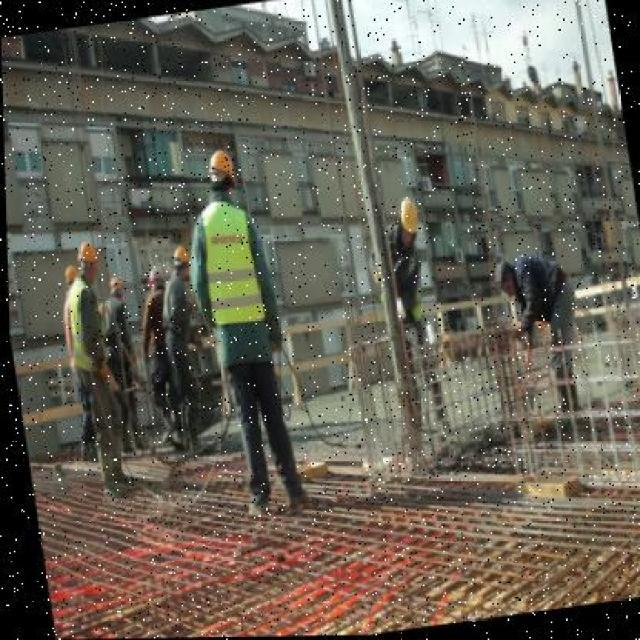helmet: (206, 143, 242, 183), (74, 240, 98, 270)
vest: (199, 203, 262, 327)
